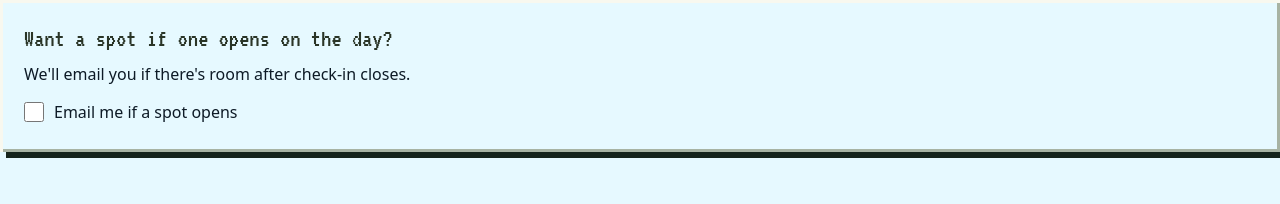
WaitlistOptIn › reads the applicant's own hacker application and saves the switch through the RPC
Expected: the heading "Want a spot if one opens on the day?" is shown, [24,26,393,51]
Expected: the text "We'll email you if there's room after check-in closes." is shown, [24,63,410,85]
Click the switch labelled "Email me if a spot opens" at (34, 112), box [24,102,44,122]
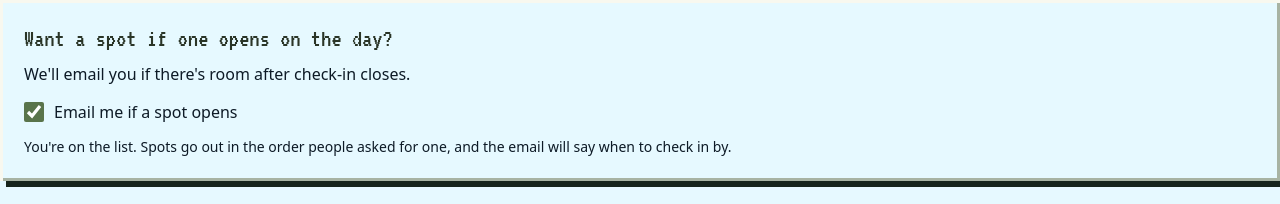
Expected: the switch is checked
Expected: the text "You're on the list" is shown, [24,137,732,156]
Click the switch at (34, 112), box [24,102,44,122]
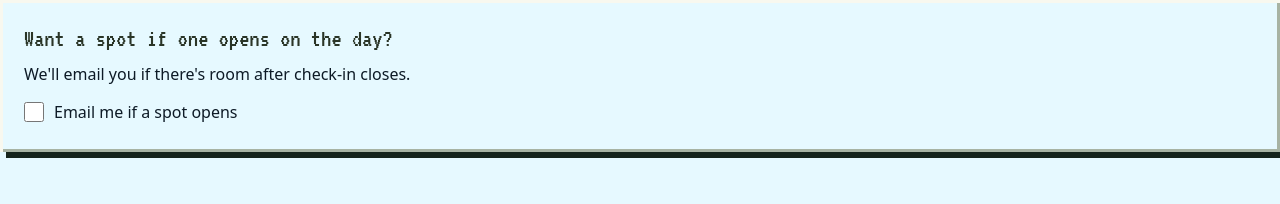
Expected: the text "You're on the list" is gone
